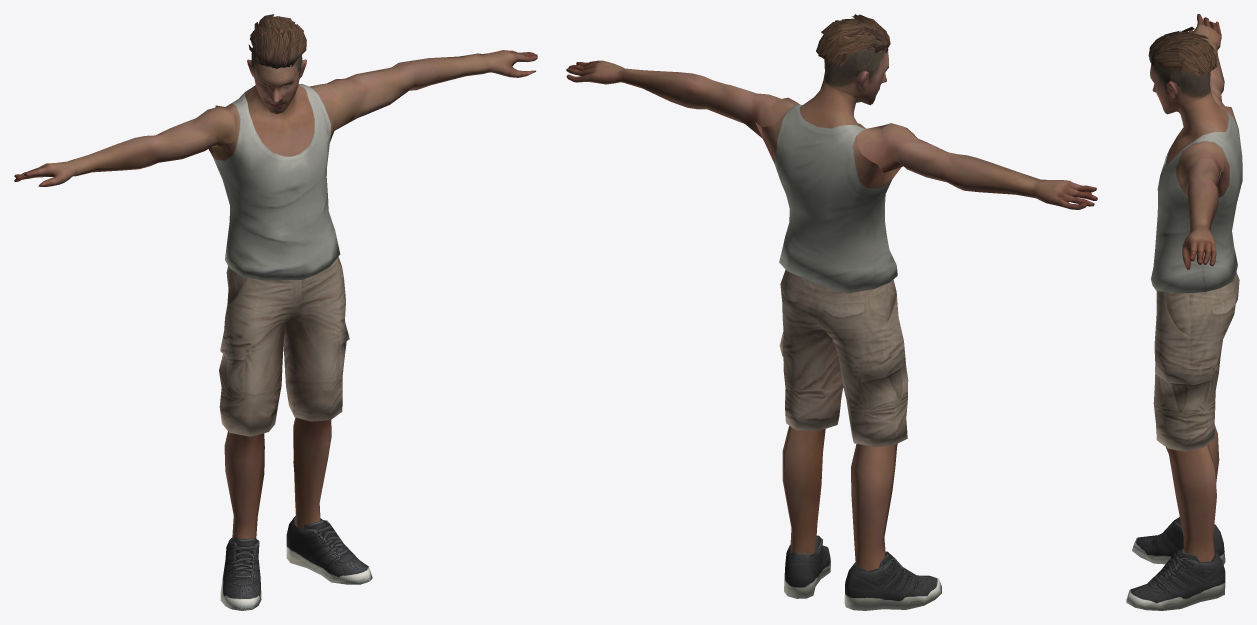
The model's file is adam.obj.
3 renders of one model, left to right at view 1: azimuth 30°, elevation 25°; view 2: azimuth 150°, elevation 25°; view 3: azimuth 270°, elevation 25°, orthographic. The views are drawn at different scales.
Visible parts, largest first — view 1: adam_adammesh; view 2: adam_adammesh; view 3: adam_adammesh.
Part boxes in pixels (<box>): adam_adammesh: <box>14,14,537,610</box>; adam_adammesh: <box>566,14,1097,610</box>; adam_adammesh: <box>1126,14,1242,610</box>.
Size of the model in its own units: 6.84 by 7.08 by 1.37.
Materials: 1 (1 with a texture image).
